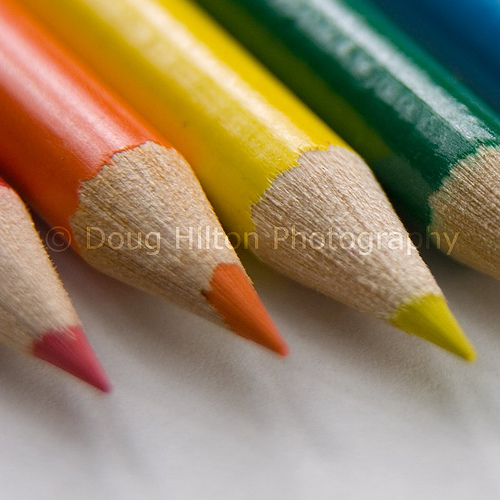pen_tip: (51, 121, 302, 356)
